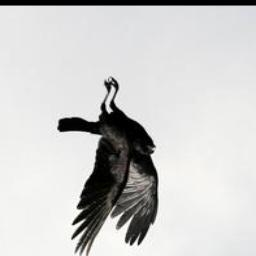Crow: (56, 73, 160, 256)
